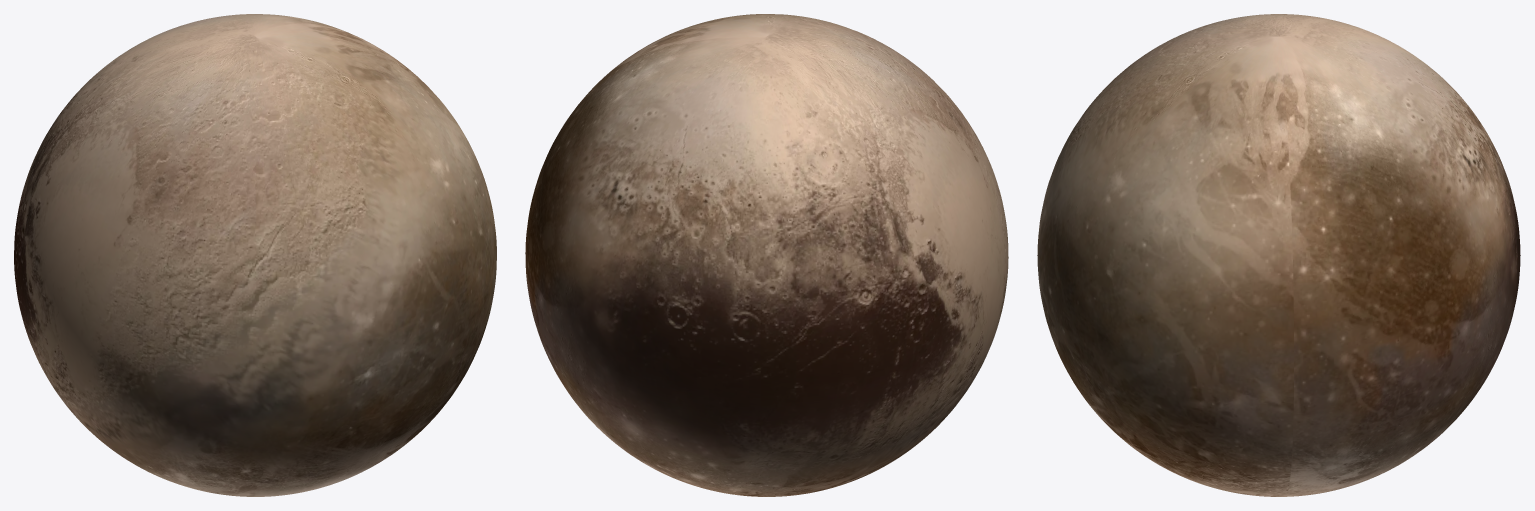
The model's file is pluto.glb.
3 renders of one model, left to right at view 1: azimuth 30°, elevation 25°; view 2: azimuth 150°, elevation 25°; view 3: azimuth 270°, elevation 25°, orthographic.
Visible parts, largest first — view 1: pSphere1.1; view 2: pSphere1.1; view 3: pSphere1.1.
Part boxes in pixels (<box>): pSphere1.1: <box>14,14,496,496</box>; pSphere1.1: <box>525,14,1008,496</box>; pSphere1.1: <box>1037,14,1520,496</box>.
Bounding box in the file's own units: 0.2 × 0.2 × 0.2.
1 material, 1 textured.
